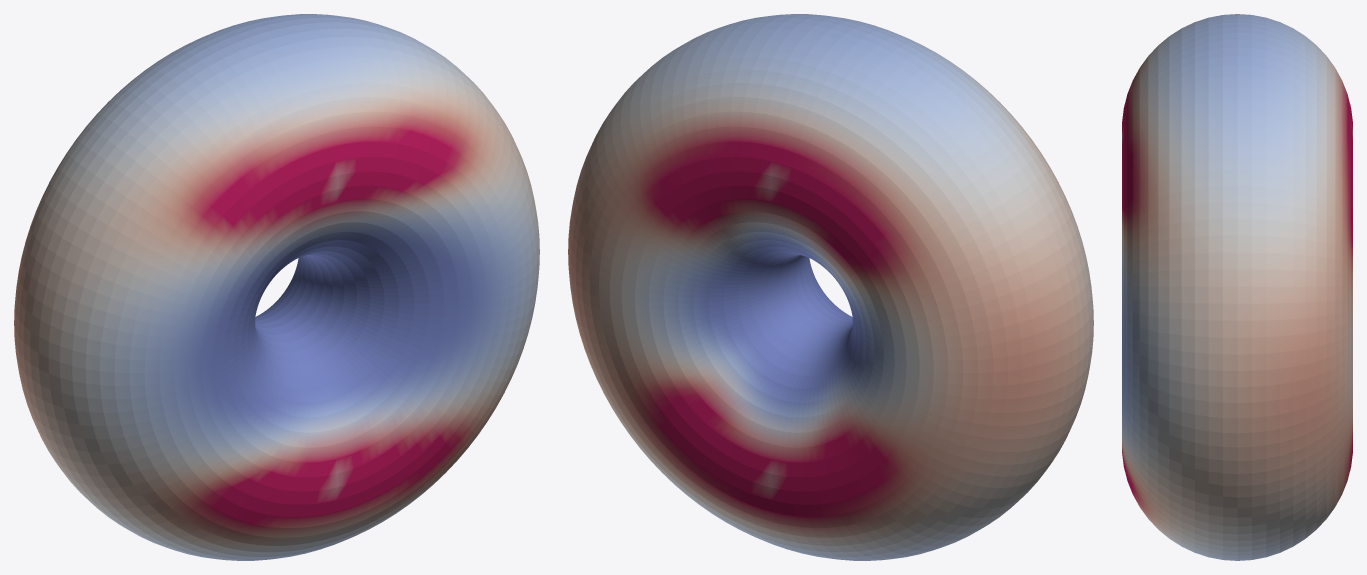
The picture shows the model from 3 angles, left to right: view 1: azimuth 30°, elevation 25°; view 2: azimuth 150°, elevation 25°; view 3: azimuth 270°, elevation 25°; orthographic projection. The views are drawn at different scales.
Parts seen in each view (by area): view 1: world; view 2: world; view 3: world.
Boxes of the visible parts, x1,y1,x2,y2 form: world: [14, 14, 539, 560]; world: [568, 14, 1093, 560]; world: [1122, 14, 1352, 560].
Bounding box in the file's own units: 17.33 × 17.33 × 7.32.
